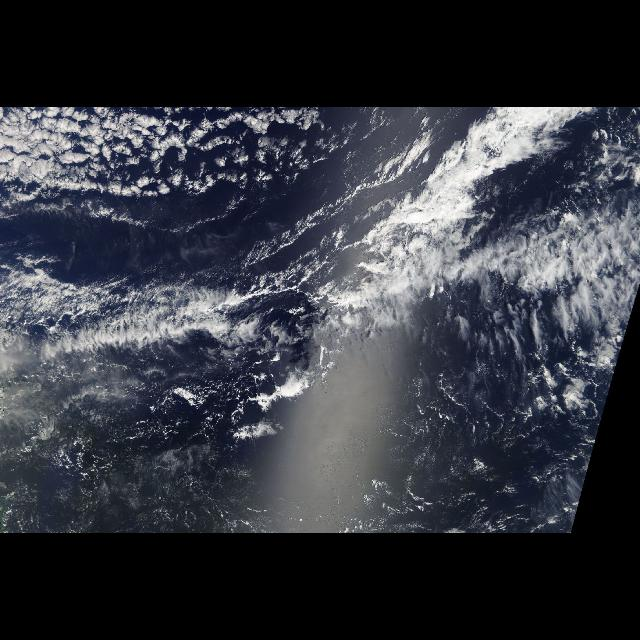Fish: (6, 224, 628, 392)
Flower: (3, 107, 370, 220)
Sugar: (8, 371, 600, 529)
